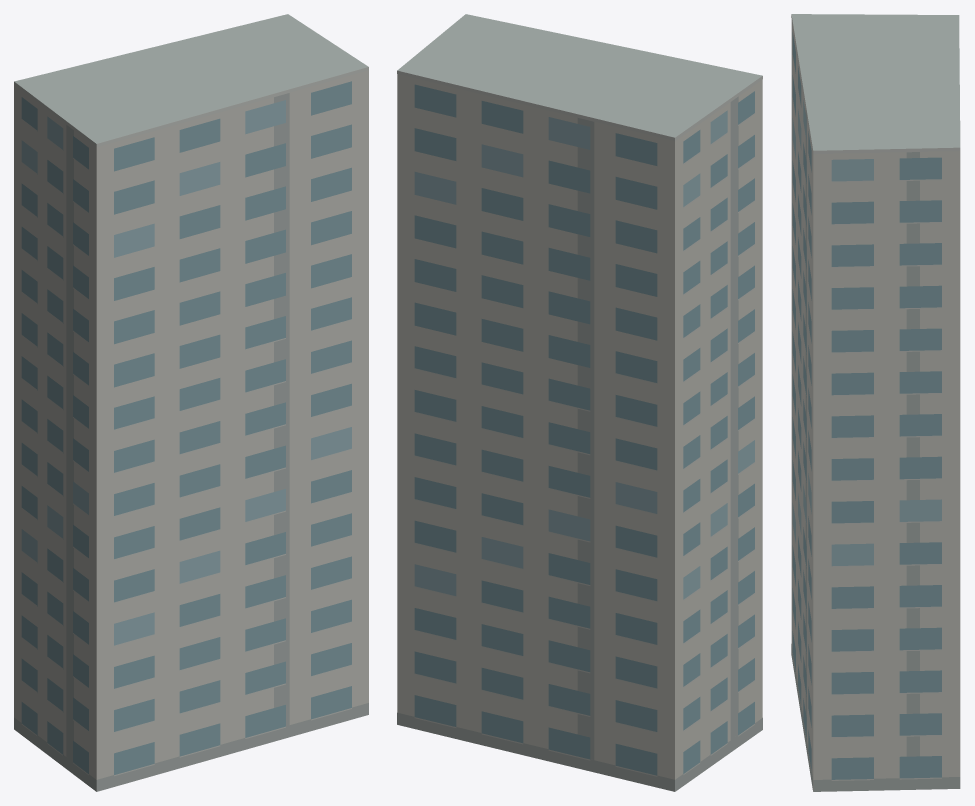
The model's file is residential-21e18dcd-eaf9-46c3-8a3f-2586a84afdb8.glb.
3 views of the same model, side by side, from view 1: azimuth 30°, elevation 25°; view 2: azimuth 150°, elevation 25°; view 3: azimuth 270°, elevation 25° (orthographic). The views are drawn at different scales.
Visible parts, largest first — view 1: residential-21e18dcd-eaf9-46c3-8a3f-2586a84afdb8.tmp; view 2: residential-21e18dcd-eaf9-46c3-8a3f-2586a84afdb8.tmp; view 3: residential-21e18dcd-eaf9-46c3-8a3f-2586a84afdb8.tmp.
Boxes of the visible parts, <box> form: residential-21e18dcd-eaf9-46c3-8a3f-2586a84afdb8.tmp: <box>14,14,368,791</box>; residential-21e18dcd-eaf9-46c3-8a3f-2586a84afdb8.tmp: <box>397,14,762,791</box>; residential-21e18dcd-eaf9-46c3-8a3f-2586a84afdb8.tmp: <box>791,14,960,791</box>.
Bounding box in the file's own units: 20.59 × 45 × 10.76.
